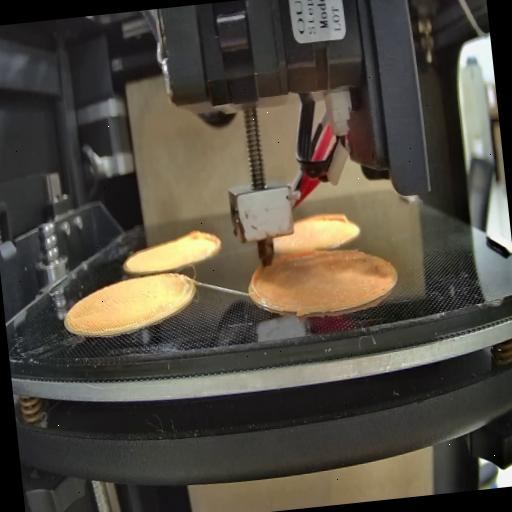over_extrusion: (188, 228, 224, 264), (274, 246, 336, 266), (312, 208, 348, 228), (247, 263, 266, 300)
